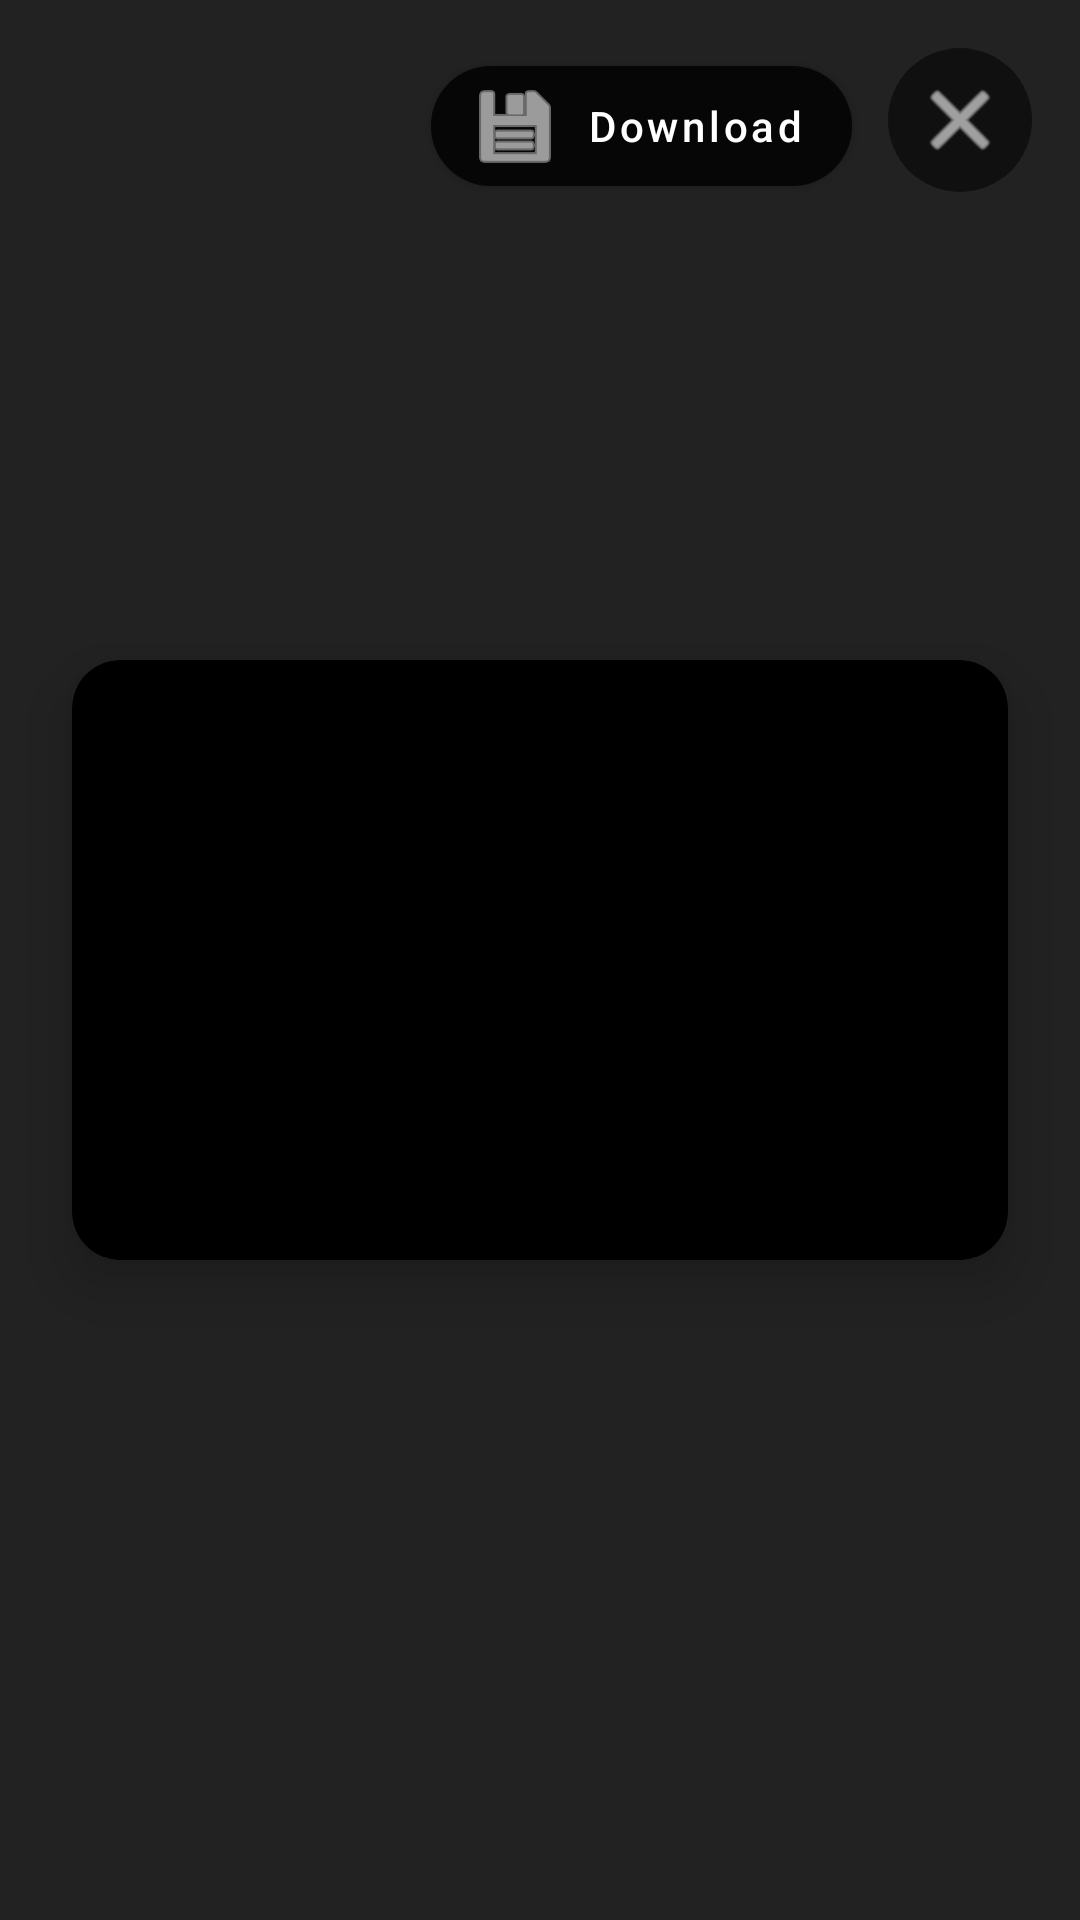

Icon click points for this 1080 x 1920 phone screenshot, format point (x, y):
close clear cancel: point (960, 120)
